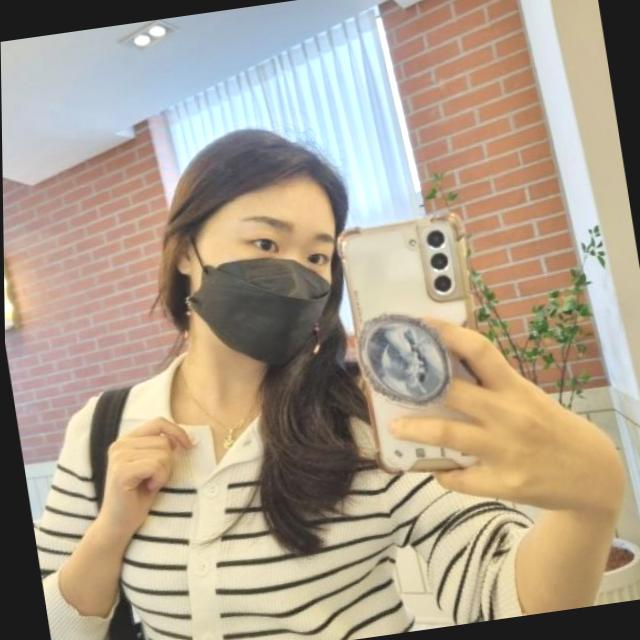Smartphone: (333, 203, 506, 491)
